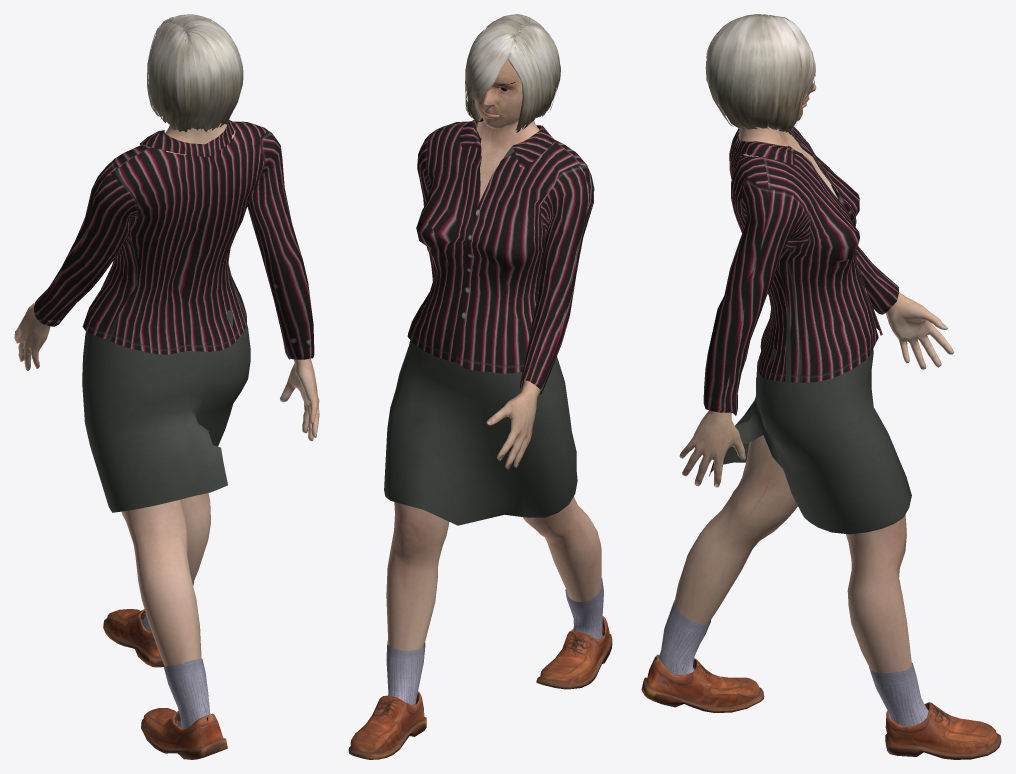
Rendered from walking_6.gltf.
3 views of the same model, side by side, from view 1: azimuth 30°, elevation 25°; view 2: azimuth 150°, elevation 25°; view 3: azimuth 270°, elevation 25° (orthographic). The views are drawn at different scales.
Parts seen in each view (by area): view 1: walking; view 2: walking; view 3: walking.
Boxes of the visible parts, left/top/right/bottom form: walking: left=14, top=14, right=319, bottom=759; walking: left=348, top=14, right=612, bottom=759; walking: left=641, top=14, right=1001, bottom=759.
Size of the model in its own units: 0.4424 by 1.53 by 0.7001.
Materials: 6 (6 with a texture image).
